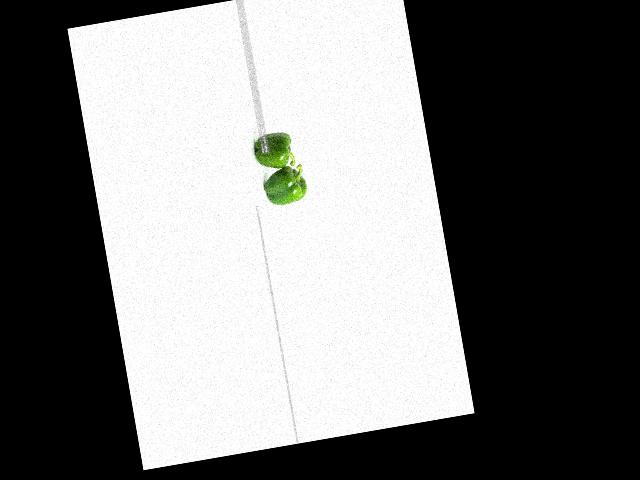bell_pepper: (255, 164, 311, 208)
